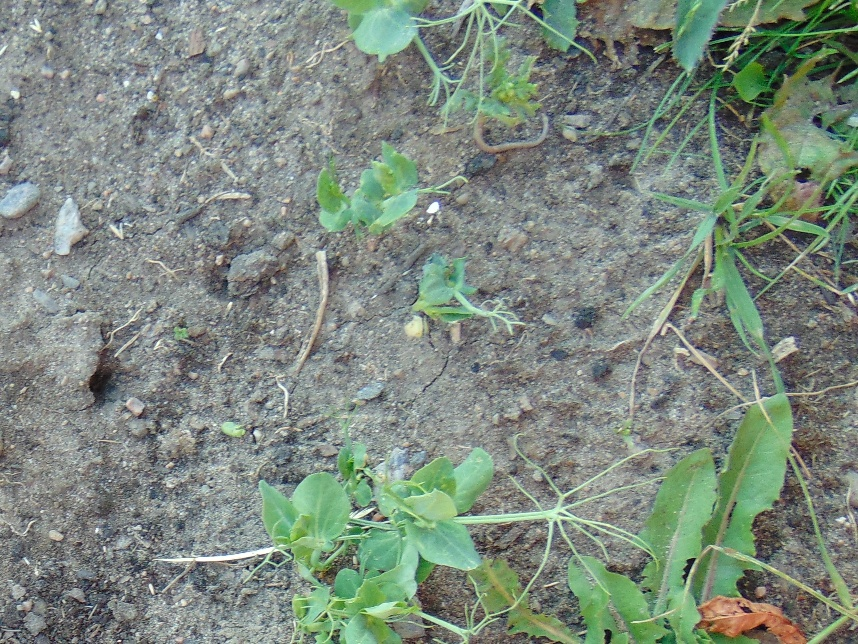crop: (242, 447, 599, 644), (663, 1, 858, 340), (581, 392, 796, 644), (474, 555, 692, 644), (665, 166, 780, 303), (340, 1, 507, 95), (313, 138, 454, 226), (407, 256, 515, 338), (444, 42, 542, 128), (535, 1, 581, 53)
